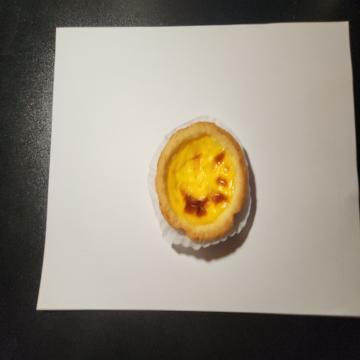EggTart: (155, 121, 249, 243)
